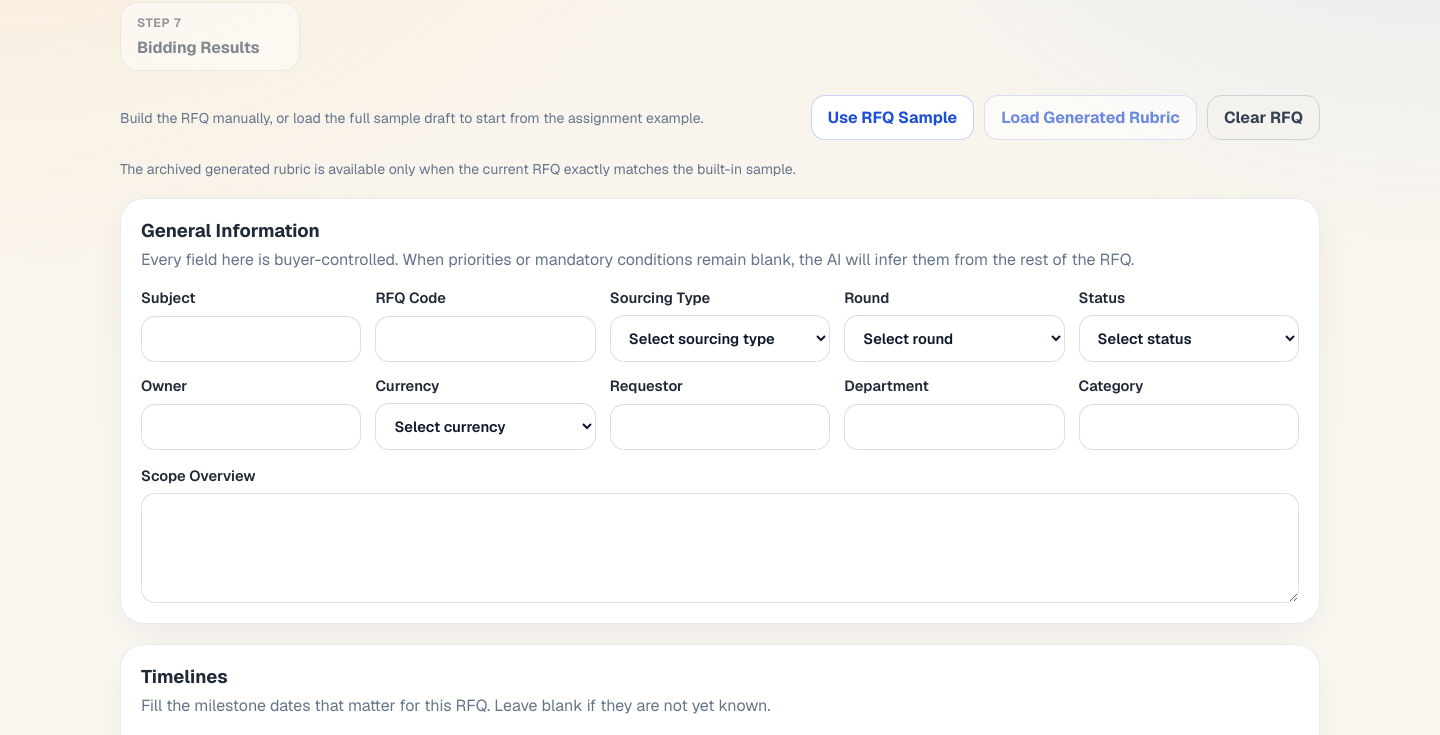
Test: RfqWizard › shows generation errors without losing RFQ input
This screenshot has width=1440, height=735.
(page scrolled)
Type "Retry-safe RFQ Subject" into the field labelled "Subject" at (251, 339), box [141,316,361,362]
(page scrolled)
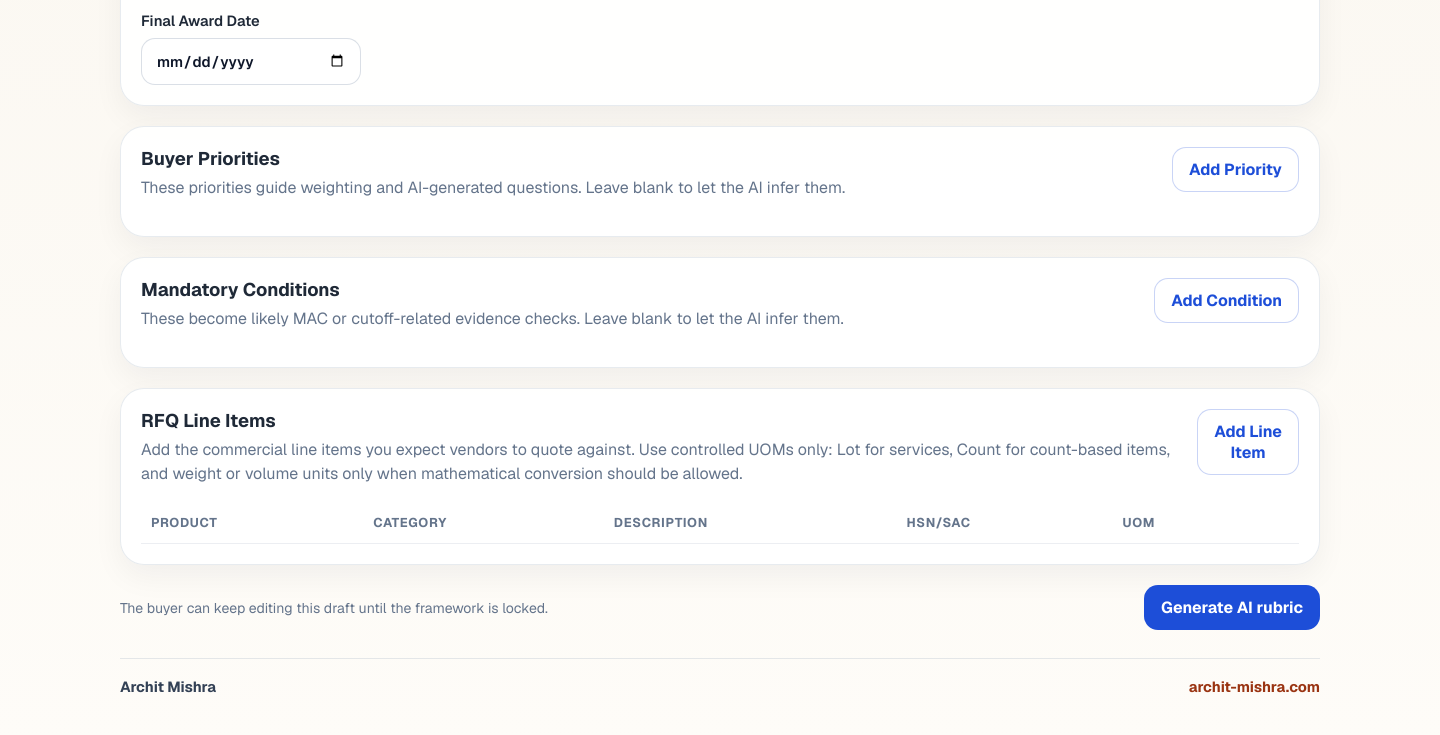
Click the button "Generate AI rubric" at (1232, 608), box [1144,585,1320,630]
(page scrolled)
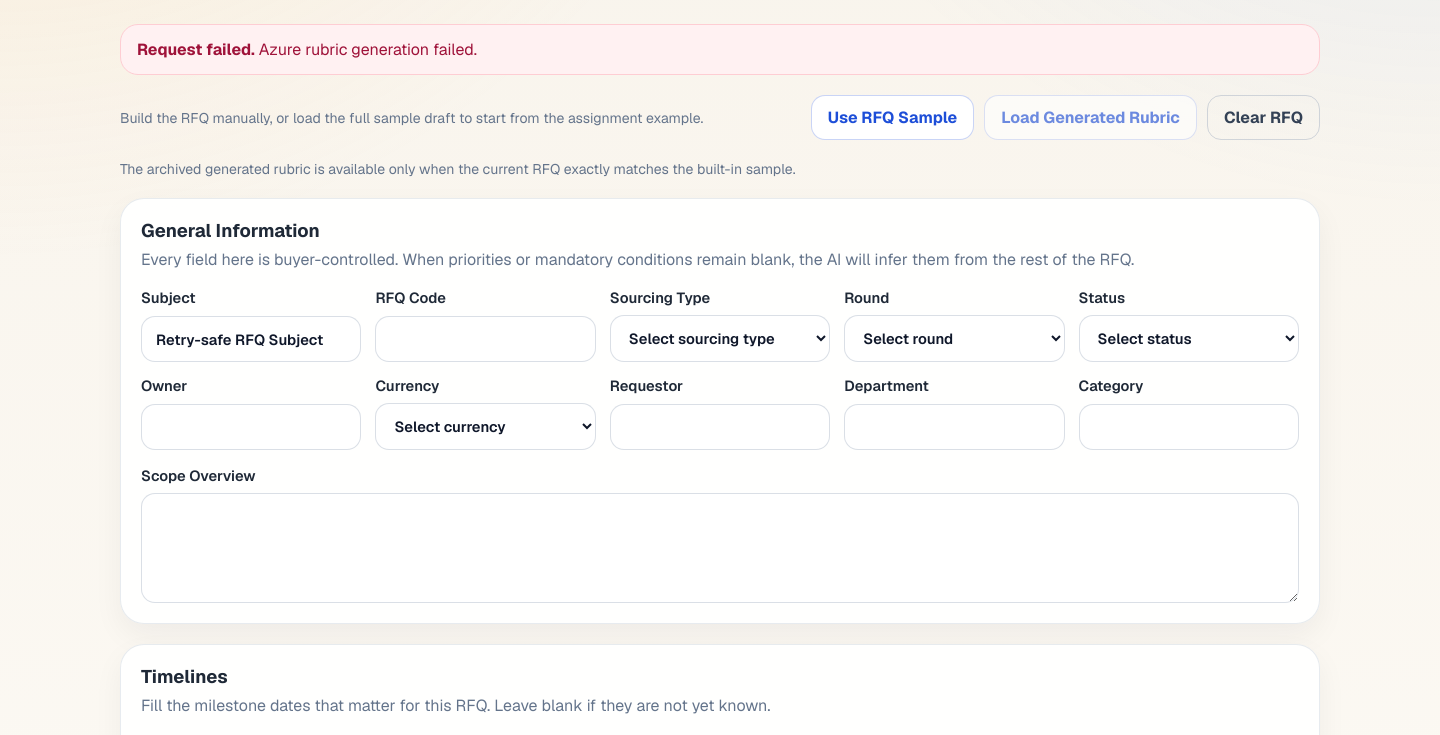
Expected: the text "Request failed." is shown, [137,39,255,60]
